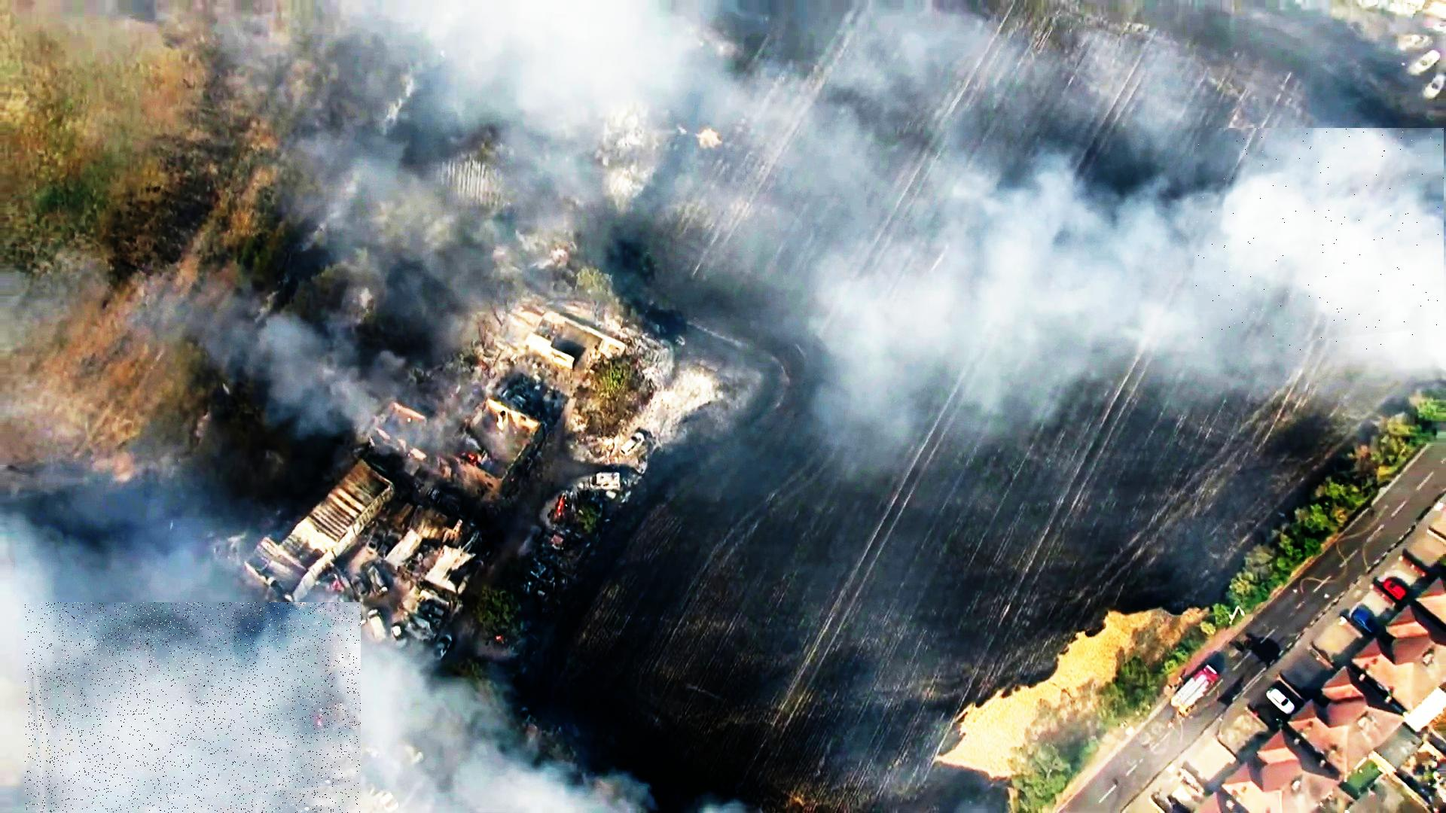smoke: (25, 602, 361, 813), (1194, 128, 1446, 353)
